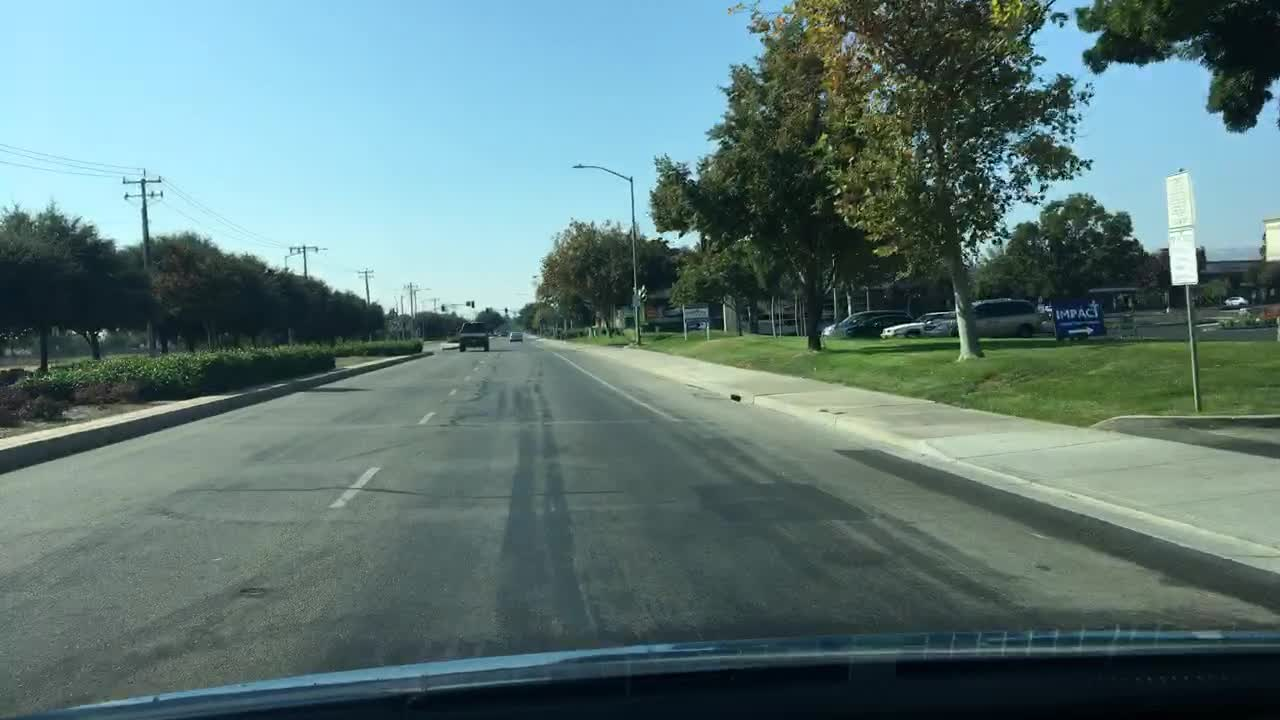car: (943, 294, 1043, 342), (880, 308, 962, 340), (828, 310, 910, 340), (455, 320, 490, 351), (1225, 293, 1249, 307), (509, 329, 522, 340), (446, 331, 457, 343)
traffic light: (440, 302, 446, 314), (471, 299, 476, 311), (505, 305, 510, 315)
traffic sign: (1054, 299, 1107, 340), (1167, 233, 1203, 289), (1166, 173, 1193, 228)
